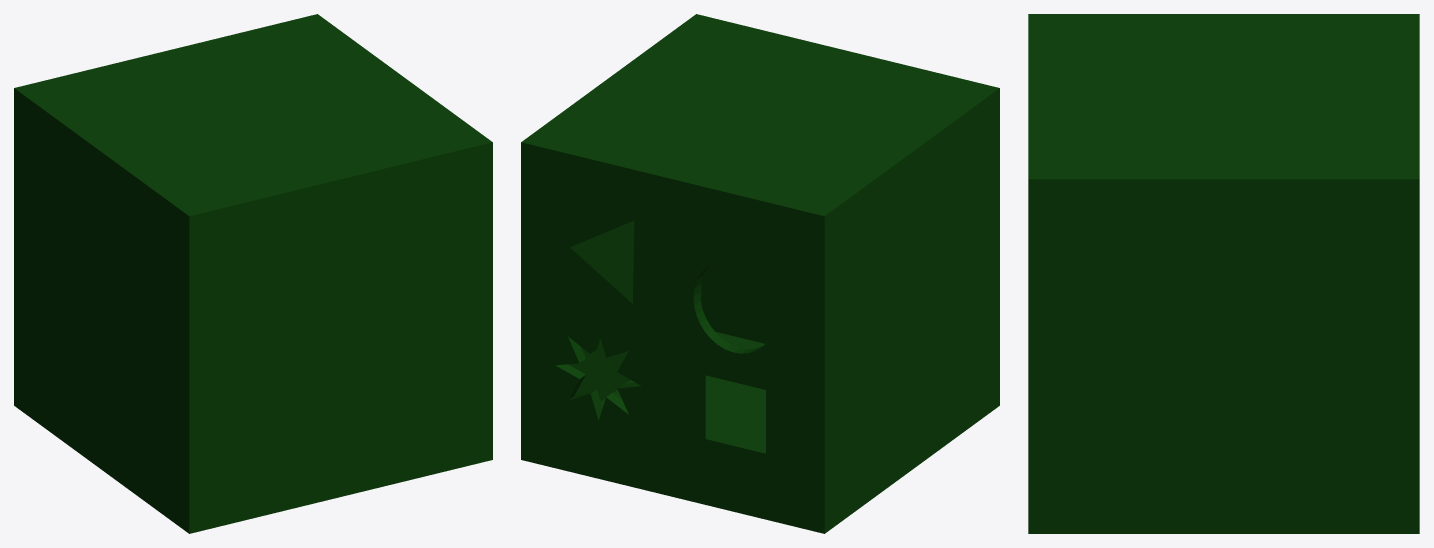
The model's file is Trieur de forme.obj.
3 views of the same model, side by side, from view 1: azimuth 30°, elevation 25°; view 2: azimuth 150°, elevation 25°; view 3: azimuth 270°, elevation 25° (orthographic). The views are drawn at different scales.
Visible parts, largest first — view 1: Trieur_de_forme_Cube.004; view 2: Trieur_de_forme_Cube.004; view 3: Trieur_de_forme_Cube.004.
Boxes of the visible parts, x1,y1,x2,y2 form: Trieur_de_forme_Cube.004: (14, 14, 492, 533); Trieur_de_forme_Cube.004: (521, 14, 999, 533); Trieur_de_forme_Cube.004: (1028, 14, 1419, 533).
Bounding box in the file's own units: 4.56 × 4.56 × 4.56.
